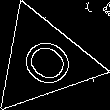O_SE: (8, 27, 79, 94)
